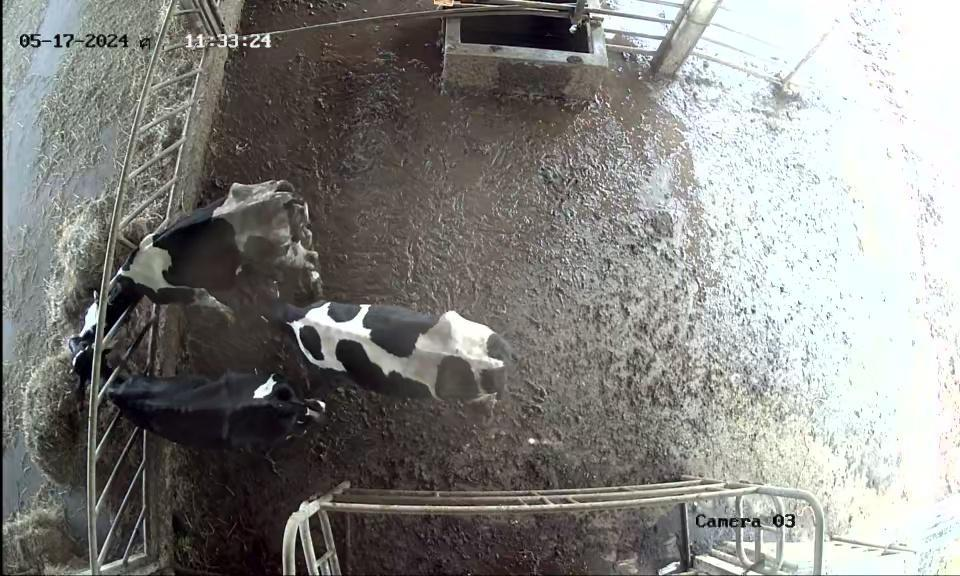eat: (68, 263, 155, 348), (64, 349, 148, 417)
stand: (247, 280, 525, 413)
